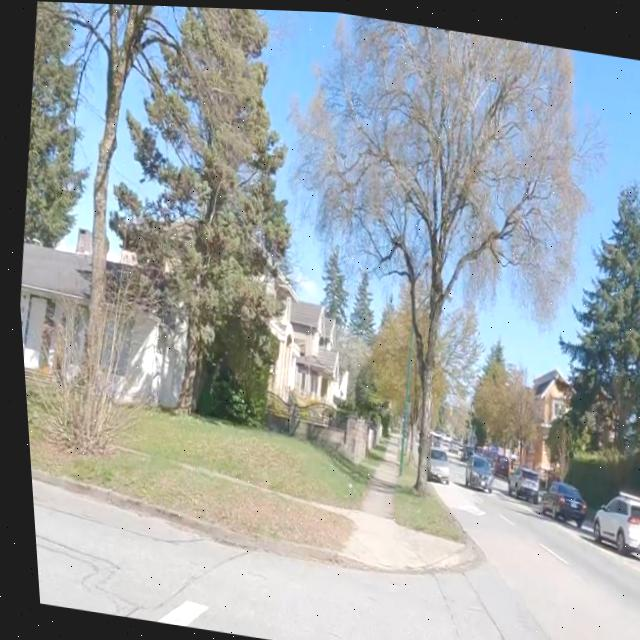Automobile: (584, 488, 640, 553), (533, 477, 578, 523), (458, 449, 486, 487), (502, 463, 532, 498), (420, 444, 441, 480), (487, 451, 501, 475)
Road: (25, 480, 640, 640)
Sidewalk: (310, 502, 455, 567), (352, 429, 395, 516)
